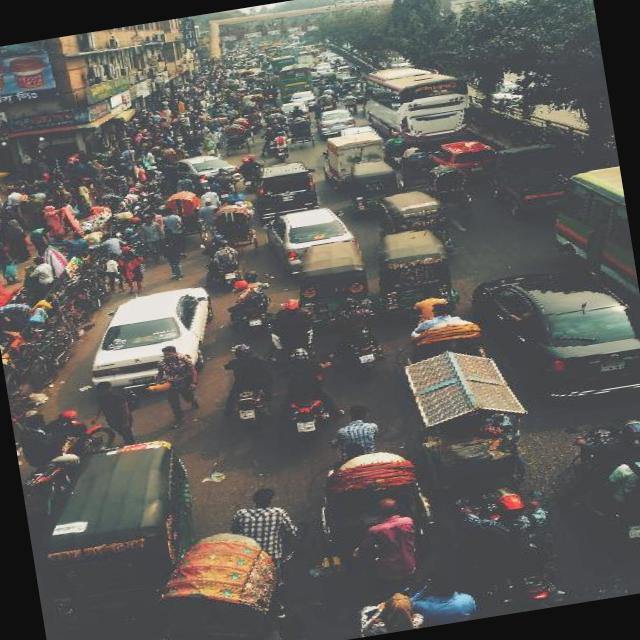bus: (537, 164, 637, 306), (356, 56, 474, 152), (274, 62, 312, 101), (269, 54, 297, 70), (298, 48, 320, 65), (289, 45, 312, 54), (237, 68, 254, 80), (276, 46, 294, 56), (263, 44, 278, 56), (311, 42, 324, 52), (256, 42, 270, 49), (271, 39, 280, 45)
car: (462, 254, 640, 414), (78, 284, 220, 392), (262, 202, 363, 276), (424, 135, 502, 180), (167, 148, 243, 192), (278, 100, 308, 122), (286, 88, 314, 110), (348, 81, 368, 103), (336, 74, 361, 91), (334, 64, 349, 78), (329, 54, 344, 65), (314, 65, 332, 74), (308, 70, 318, 84), (313, 61, 330, 68), (316, 52, 328, 59), (323, 54, 336, 60)
motorcycle: (31, 434, 206, 603), (136, 520, 302, 640), (453, 481, 568, 617), (300, 434, 434, 542), (11, 406, 120, 502), (566, 414, 640, 552), (370, 224, 462, 318), (372, 184, 458, 260), (290, 237, 370, 316), (274, 352, 340, 436), (402, 304, 482, 368), (221, 348, 281, 428), (328, 307, 384, 372), (416, 160, 471, 225), (343, 156, 402, 213), (158, 186, 207, 246), (207, 202, 260, 256), (196, 236, 243, 292), (268, 310, 316, 364), (391, 150, 437, 190), (234, 284, 272, 329), (218, 122, 250, 158), (282, 115, 314, 151), (381, 138, 405, 168), (238, 162, 265, 188), (232, 115, 254, 146), (215, 176, 236, 202), (258, 132, 280, 154), (271, 138, 290, 162), (312, 92, 334, 110), (236, 102, 258, 117), (265, 111, 284, 128), (317, 70, 336, 84), (342, 100, 358, 116), (286, 108, 302, 120), (346, 64, 360, 77), (248, 92, 263, 104), (251, 76, 264, 87), (332, 87, 342, 100), (264, 86, 274, 98), (250, 87, 264, 95), (269, 74, 280, 84), (217, 102, 230, 110), (227, 69, 238, 77), (322, 88, 333, 95), (246, 73, 257, 80), (228, 82, 239, 89), (262, 74, 271, 81), (235, 63, 244, 70), (331, 61, 340, 67), (254, 70, 263, 76), (224, 79, 233, 84), (246, 64, 254, 68)
truck: (485, 140, 571, 223), (248, 158, 318, 218), (316, 128, 390, 181), (294, 54, 312, 70)
